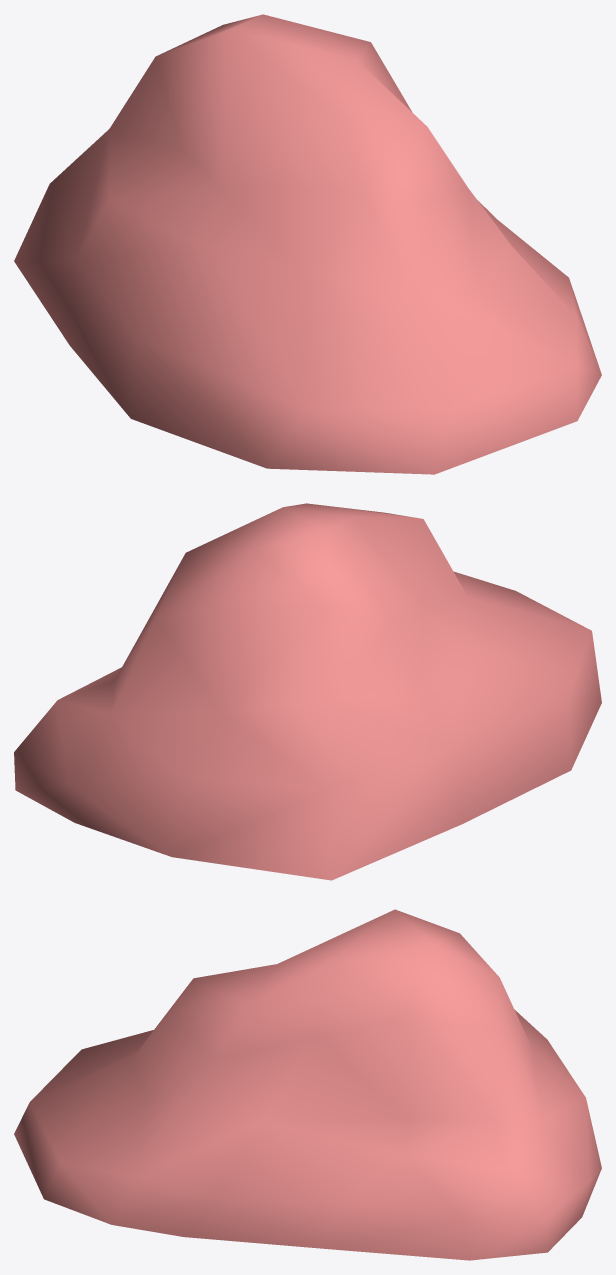
File: O_DEF_F_obj3.gltf
3 views of the same model, one above another, from view 1: azimuth 30°, elevation 25°; view 2: azimuth 150°, elevation 25°; view 3: azimuth 270°, elevation 25° (orthographic). The views are drawn at different scales.
Visible parts, largest first — view 1: O_DEF_F_obj3; view 2: O_DEF_F_obj3; view 3: O_DEF_F_obj3.
Part boxes in pixels (left/top/right/bottom): O_DEF_F_obj3: left=14, top=14, right=601, bottom=474; O_DEF_F_obj3: left=14, top=503, right=601, bottom=880; O_DEF_F_obj3: left=14, top=909, right=601, bottom=1260.
Size of the model in its own units: 6.85 by 4 by 8.94.
